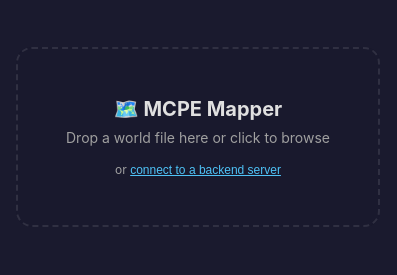
Test: FileDropZone › shows backend connection form when link is clicked
Click the button "connect to a backend server".
click(206, 170)  # box [130,163,281,177]
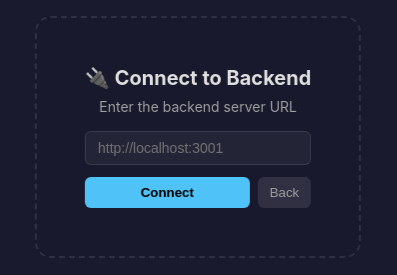
Now the heading "🔌 Connect to Backend" is shown, box [85,66,311,90]
